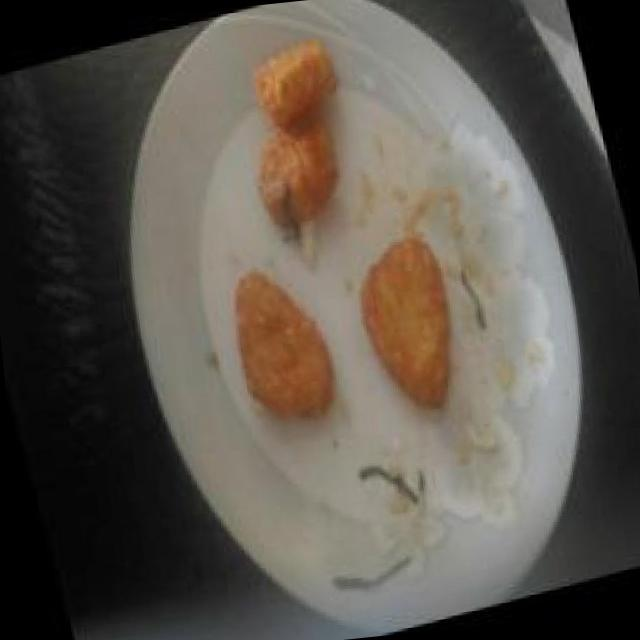triangle_hash_brown: (218, 28, 373, 240), (339, 227, 478, 427), (216, 251, 347, 437)
